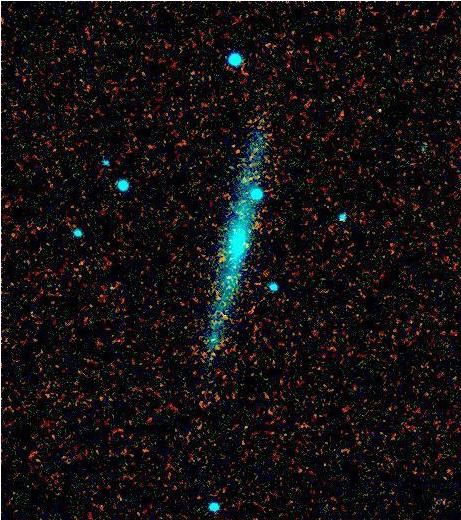star: (363, 98, 393, 128)
